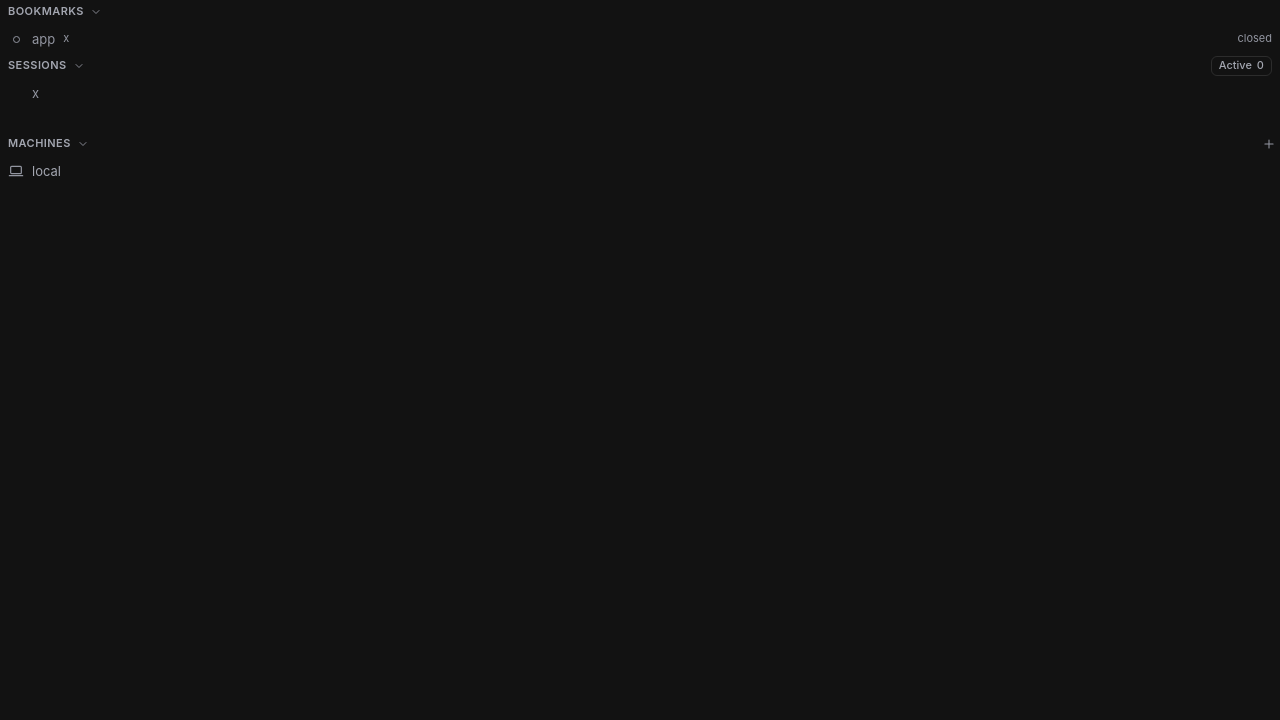
it: Sidebar machine actions › keeps everything when the rename fails
Right-click the button "x" at {"x": 36, "y": 93}, box [0,79,1279,107]
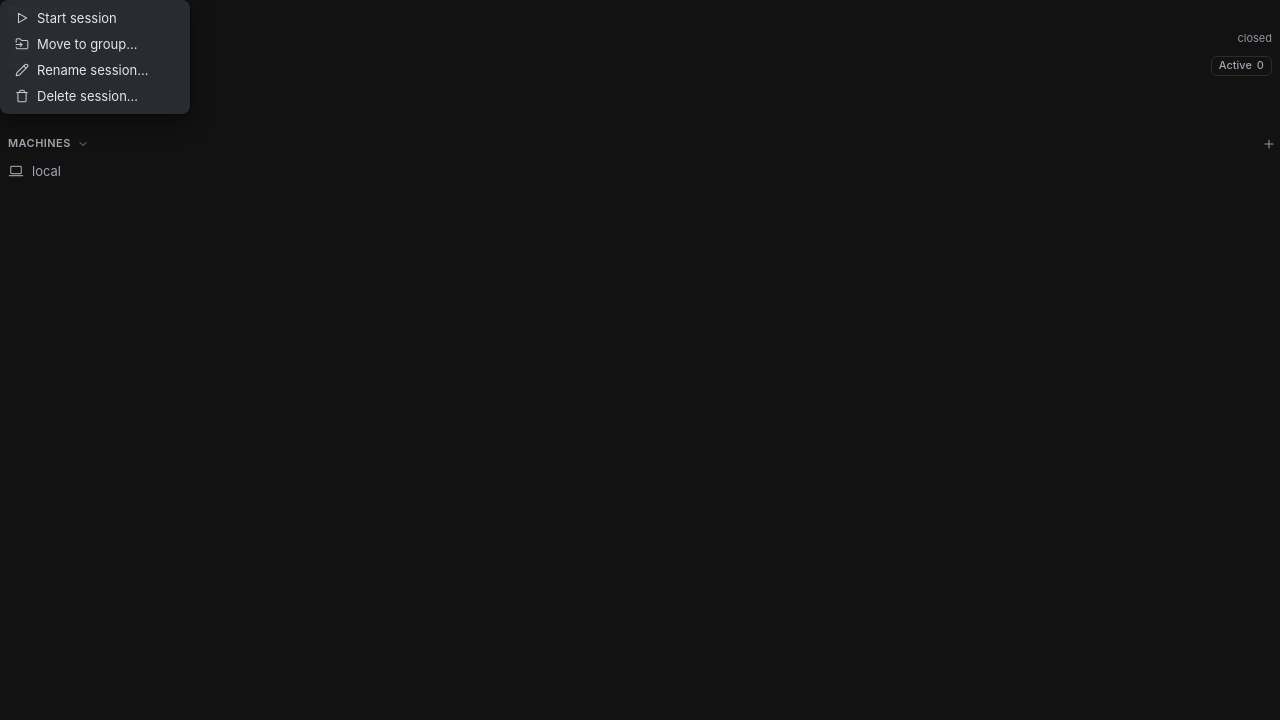
Click the menu item "Rename session…" at {"x": 95, "y": 70}, box [5,57,185,83]
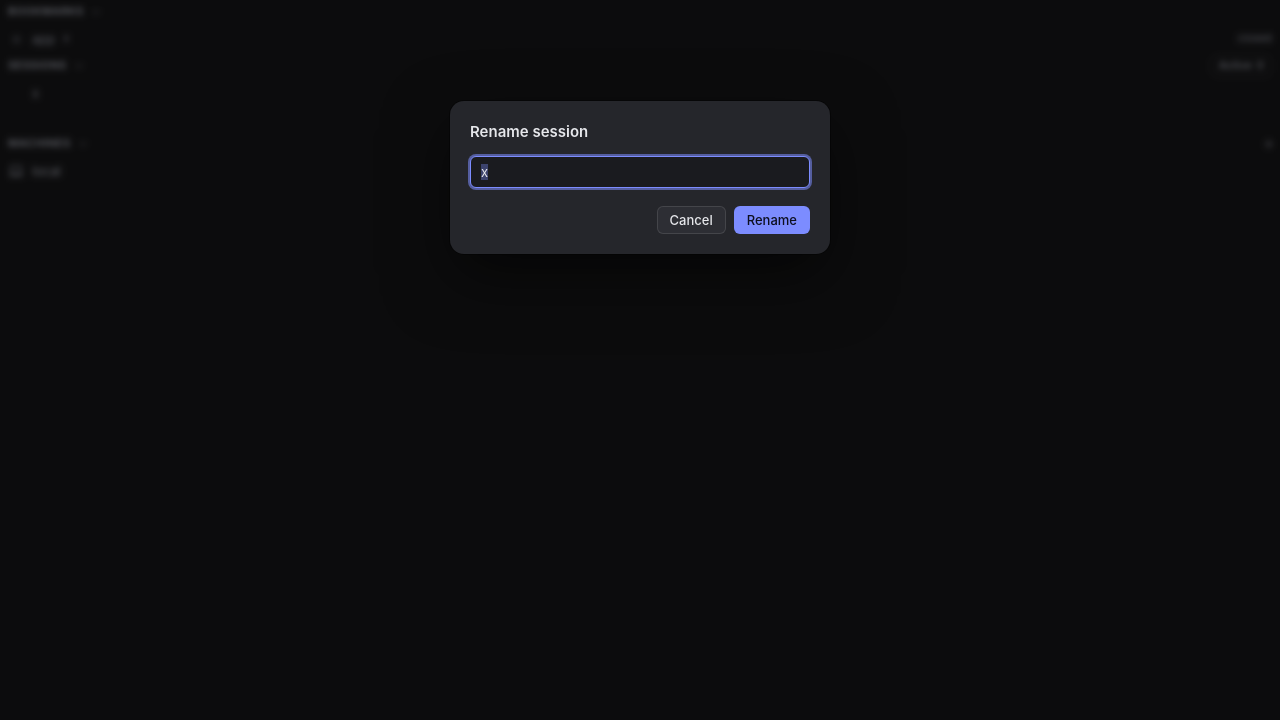
Replace the text in the field with "y" at {"x": 640, "y": 172}, box [470,156,810,188]
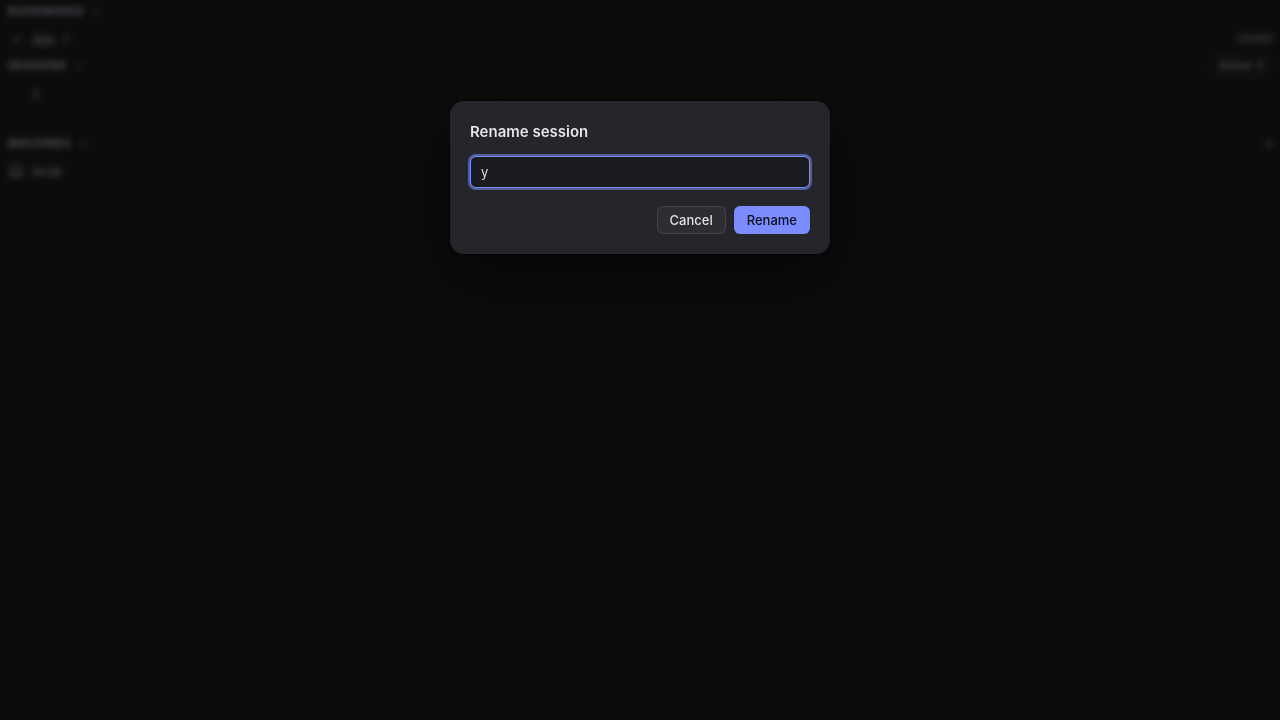
Click the button "Rename" at {"x": 772, "y": 220}, box [734,206,810,234]
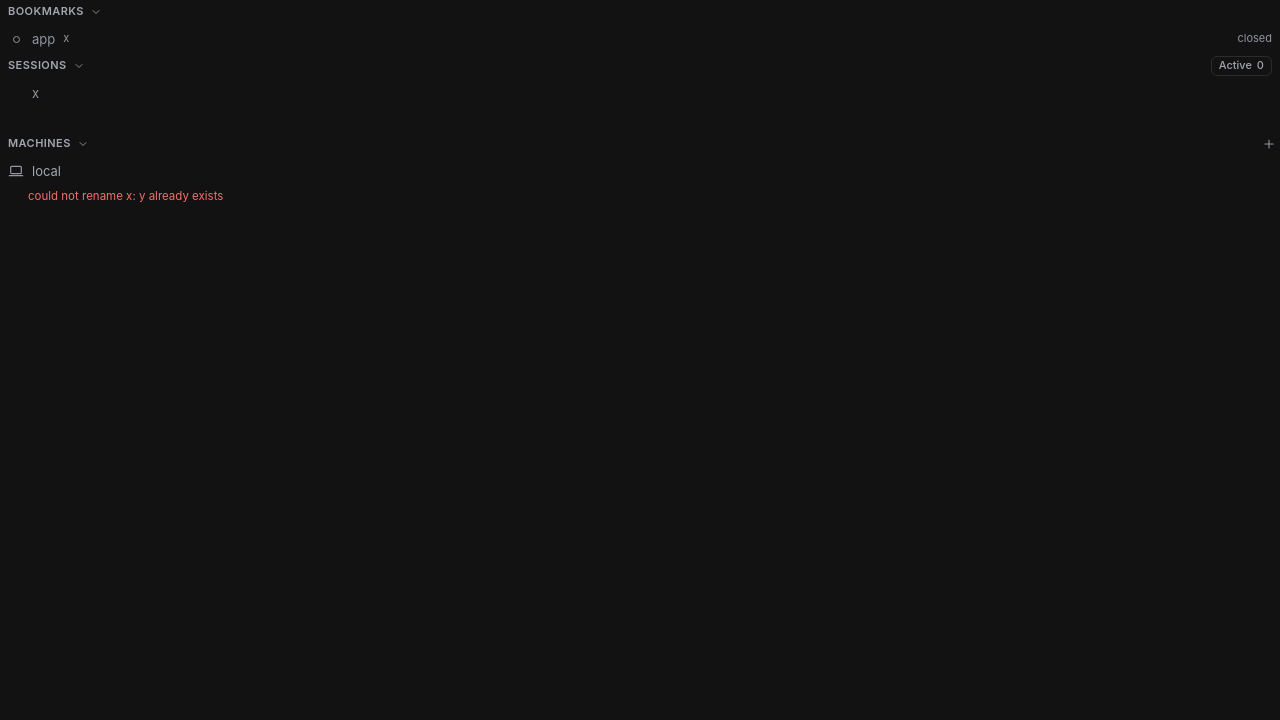
Now the message shows "already exists", box [28,189,223,203]
